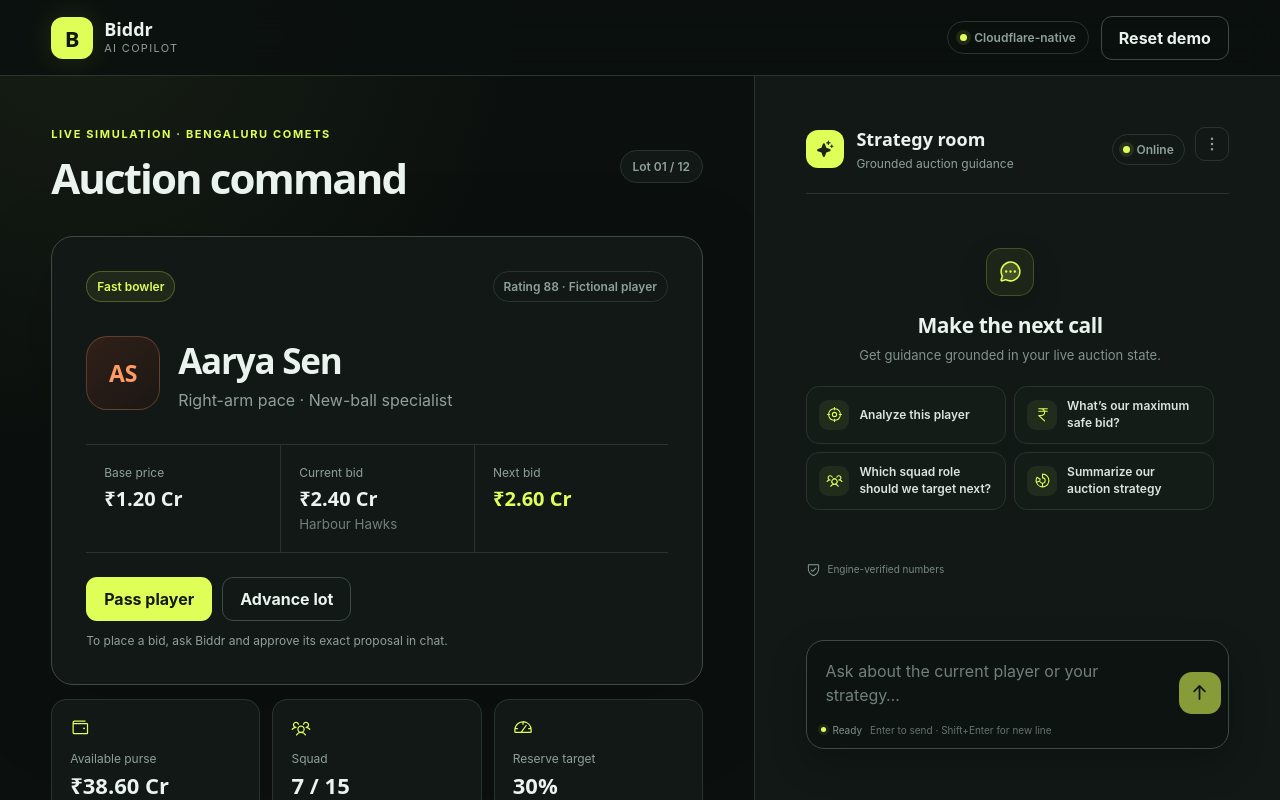
Test: Biddr application shell › passes and advances lots through callable Agent operations
Click the button "Pass player": (149, 599) [86,577,212,621]
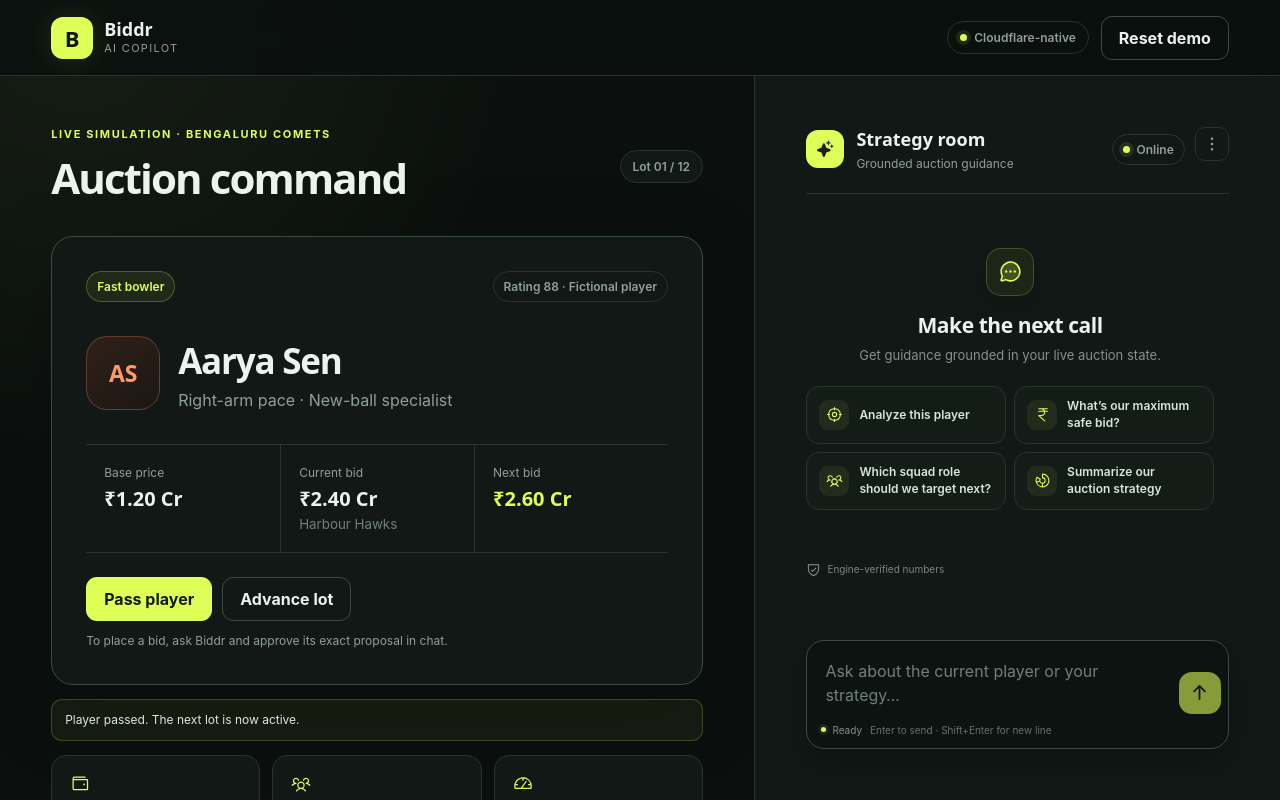
Click the button "Advance lot": (287, 599) [222,577,352,621]
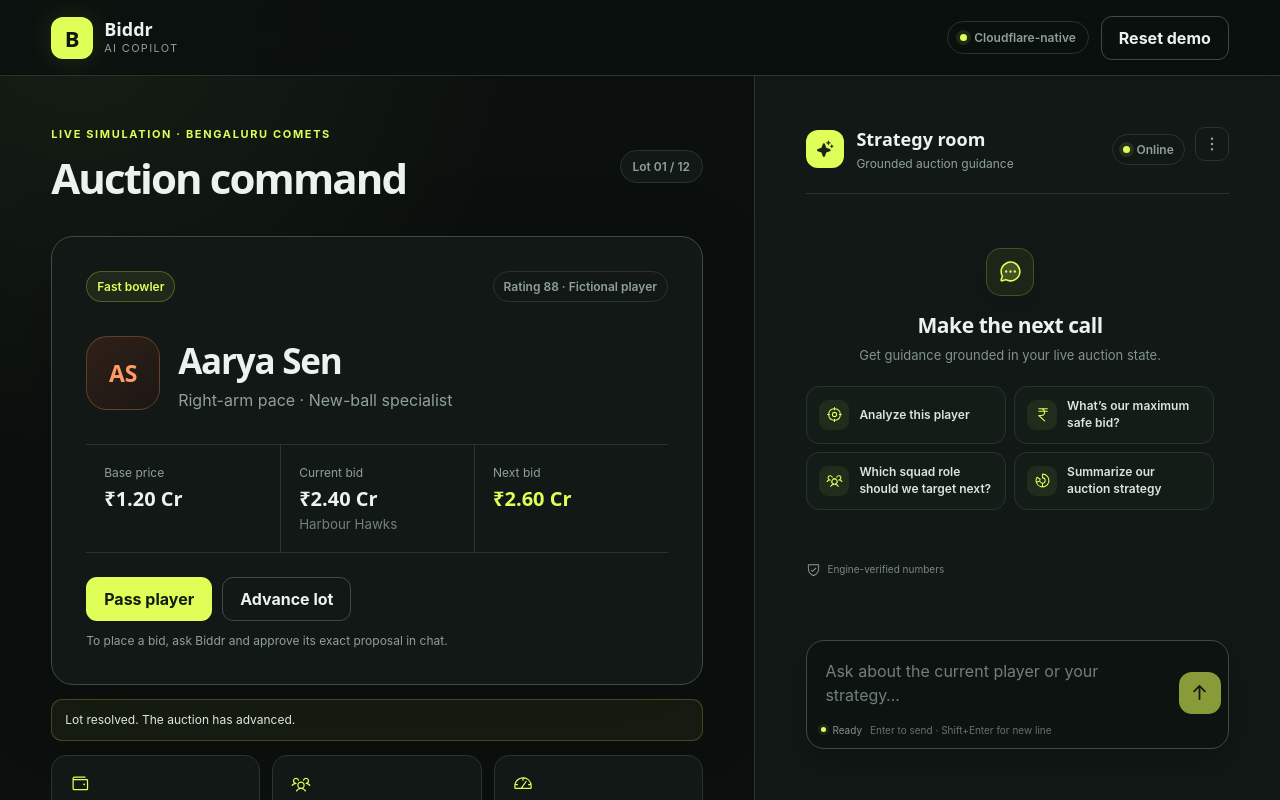
Now the text "Lot resolved. The auction has advanced." is shown, box [51,699,703,741]
